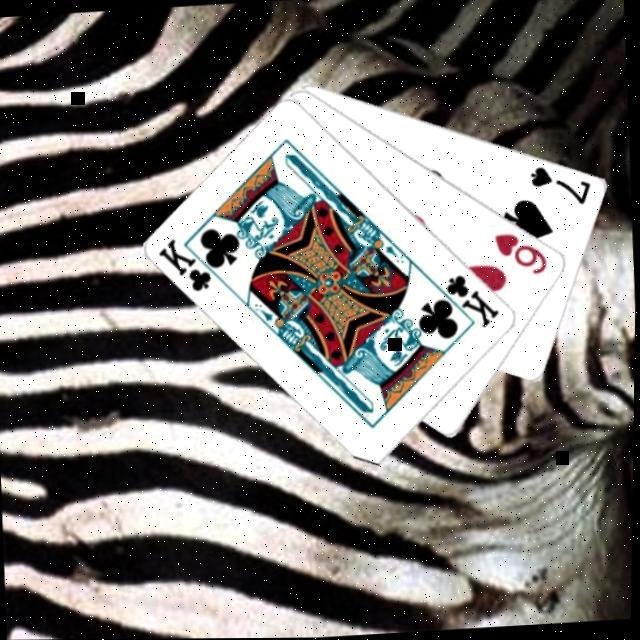6H: (491, 229, 552, 281)
7S: (526, 162, 595, 211)
KC: (155, 234, 230, 298), (430, 272, 504, 336)
